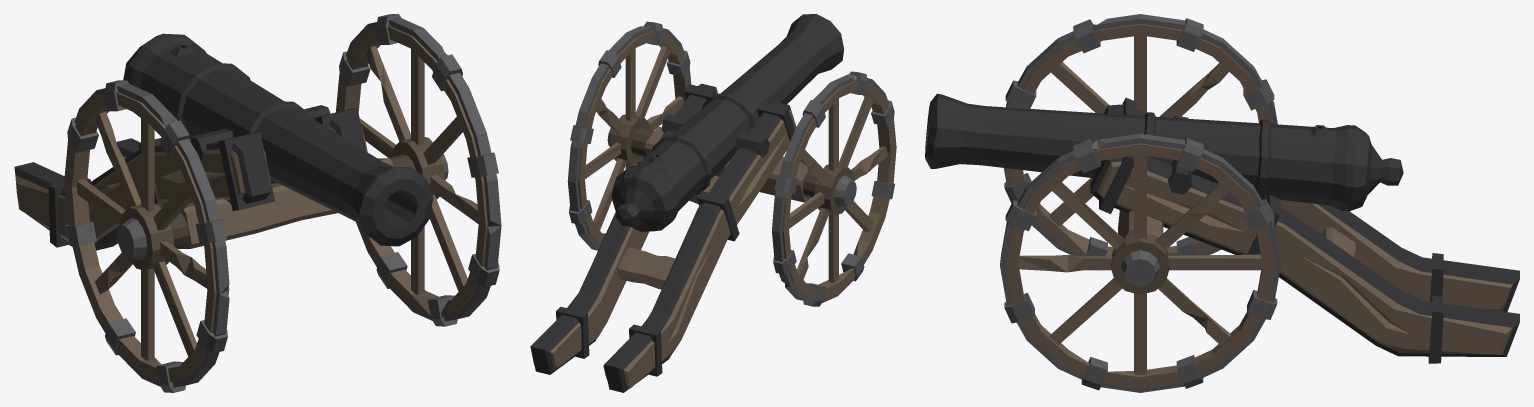
Rendered from SM_Prop_Cannon_03_Separate.glb.
The picture shows the model from 3 angles, left to right: view 1: azimuth 30°, elevation 25°; view 2: azimuth 150°, elevation 25°; view 3: azimuth 270°, elevation 25°; orthographic projection. The views are drawn at different scales.
Visible parts, largest first — view 1: SM_Prop_Cannon_03_Wheel_L; view 2: SM_Prop_Cannon_03_Wheel_L; view 3: SM_Prop_Cannon_03_Wheel_L.
Part boxes in pixels (x1,y1,x2,y2): SM_Prop_Cannon_03_Wheel_L: (14, 14, 501, 392); SM_Prop_Cannon_03_Wheel_L: (530, 14, 896, 392); SM_Prop_Cannon_03_Wheel_L: (925, 14, 1519, 392).
Size of the model in its own units: 0.0161 by 0.014 by 0.0292.
